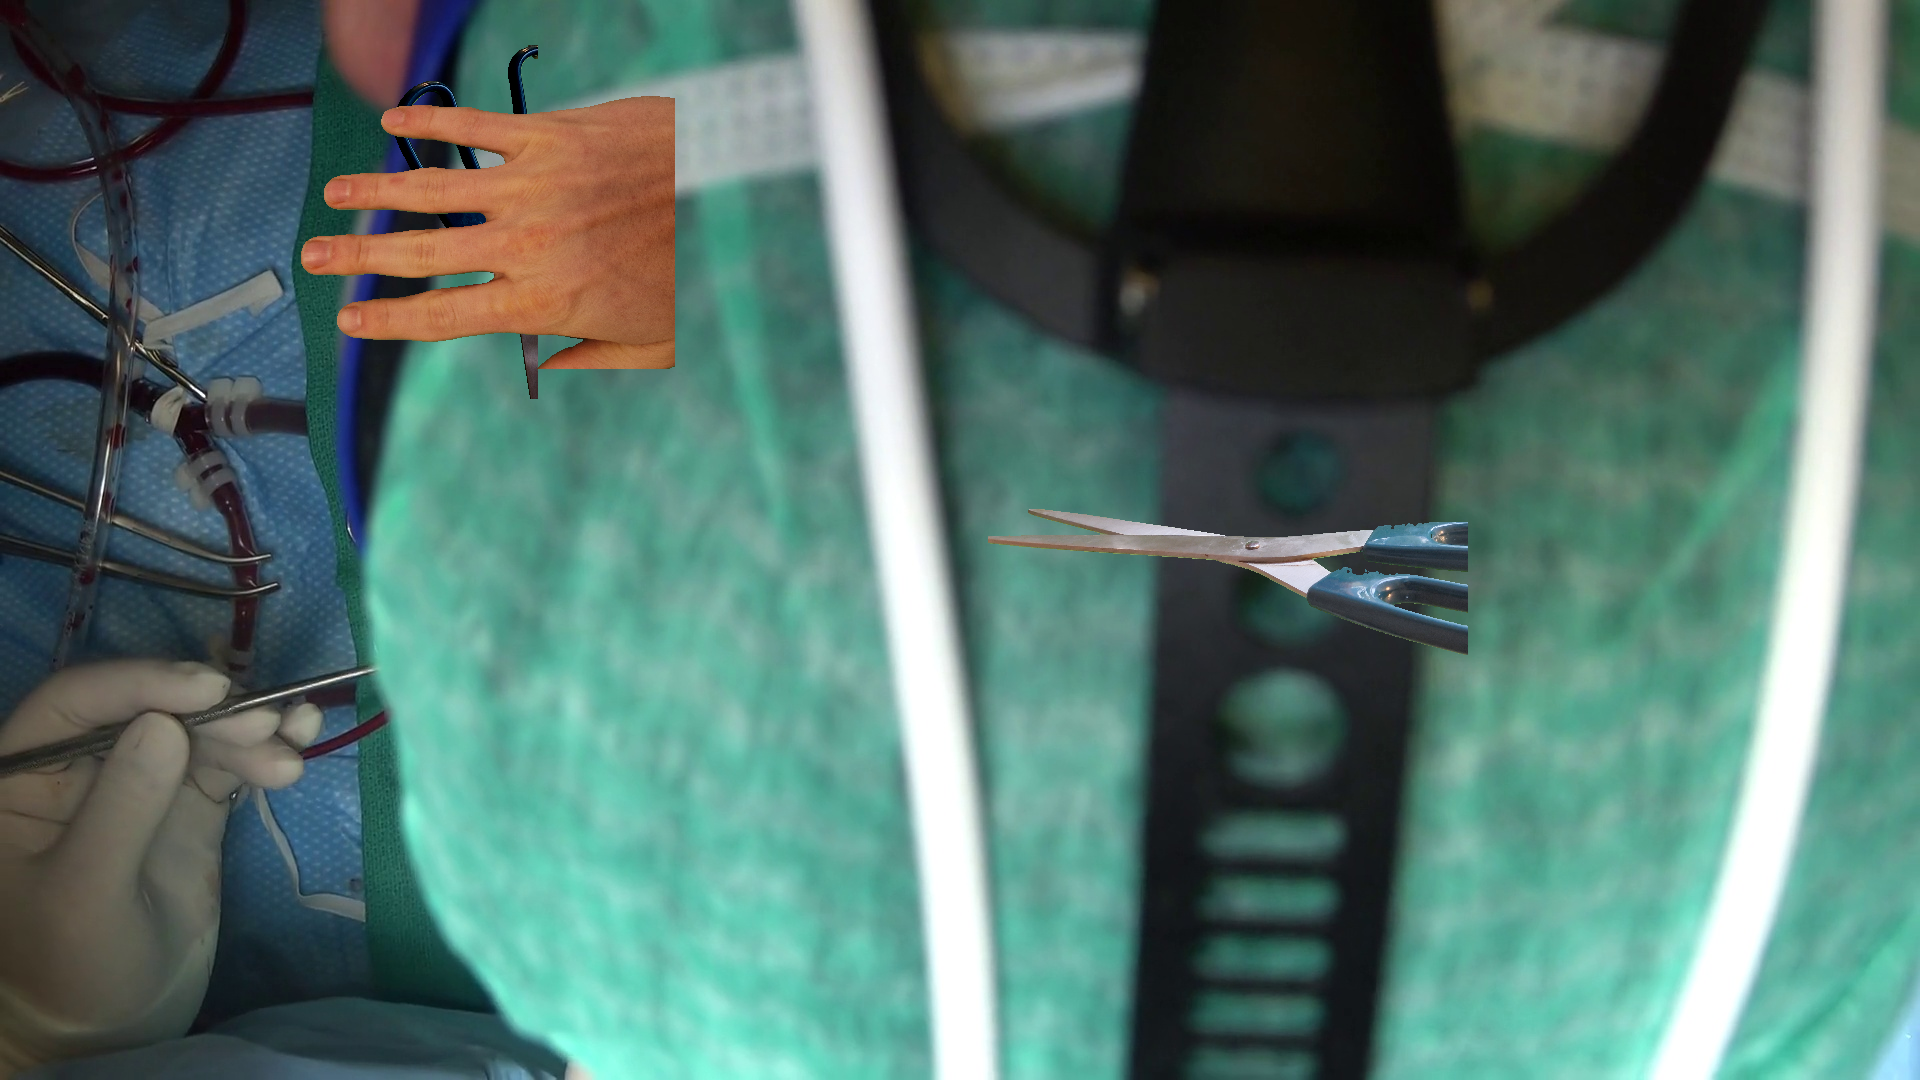scissors: (988, 509, 1466, 654), (396, 45, 537, 398)
